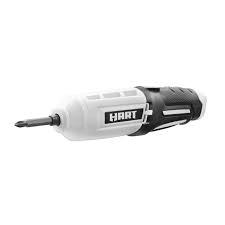screwdriver: (61, 82, 207, 138), (14, 113, 62, 128)
